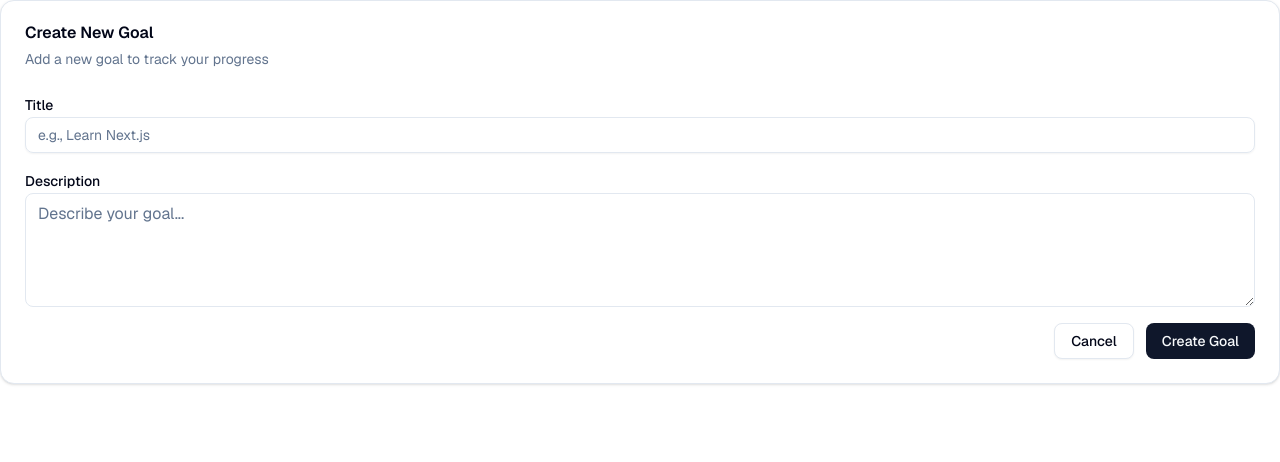
Scenario: GoalForm › Create Mode › displays error message on failure
Type "New Goal" into the field labelled "Title".
click(640, 135); type("New Goal")  # box [25,117,1255,153]
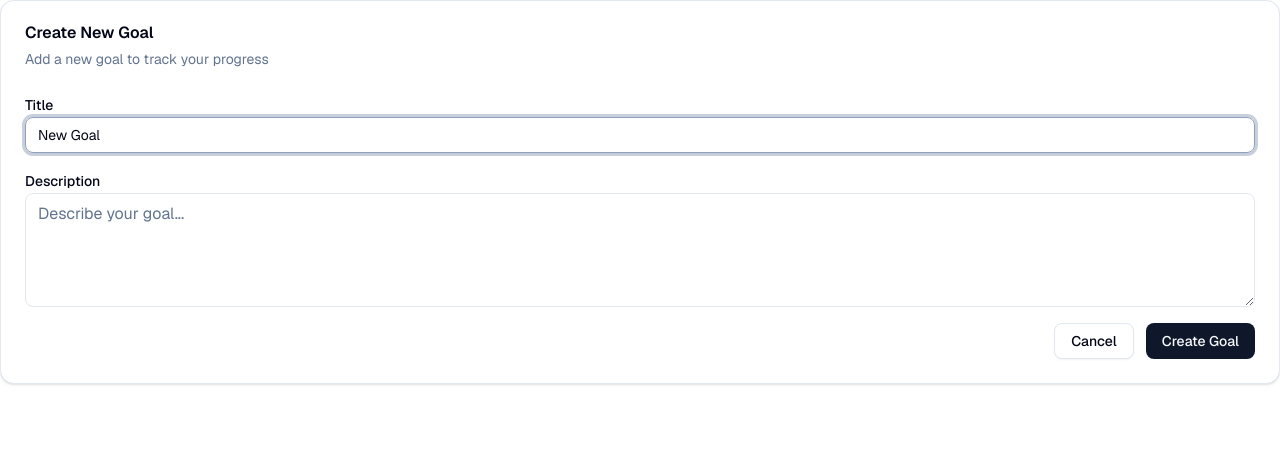
Type "New Description" into the text box labelled "Description".
click(640, 250); type("New Description")  # box [25,193,1255,307]
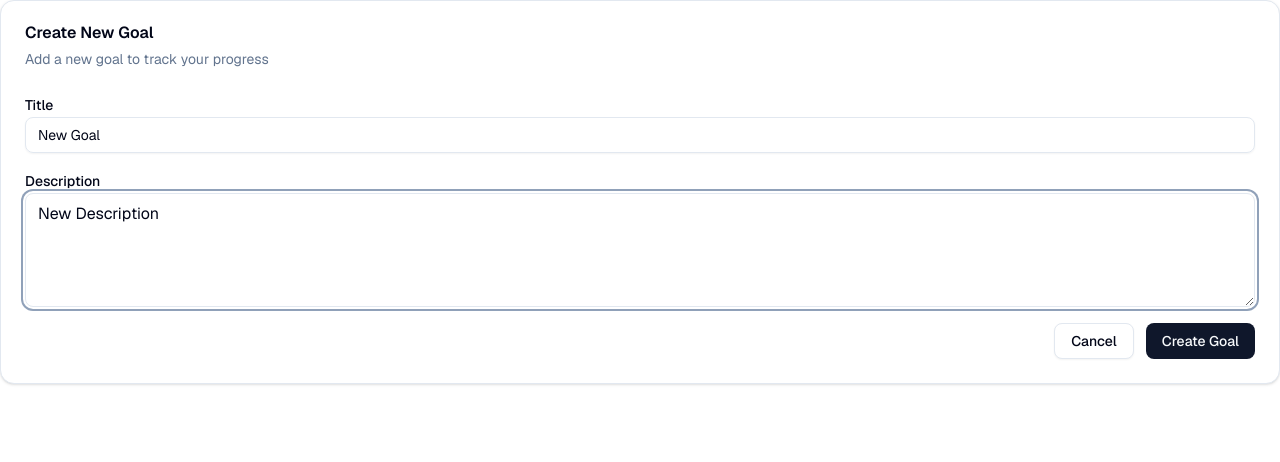
Click the button "Create Goal".
click(1200, 341)  # box [1146,323,1255,359]
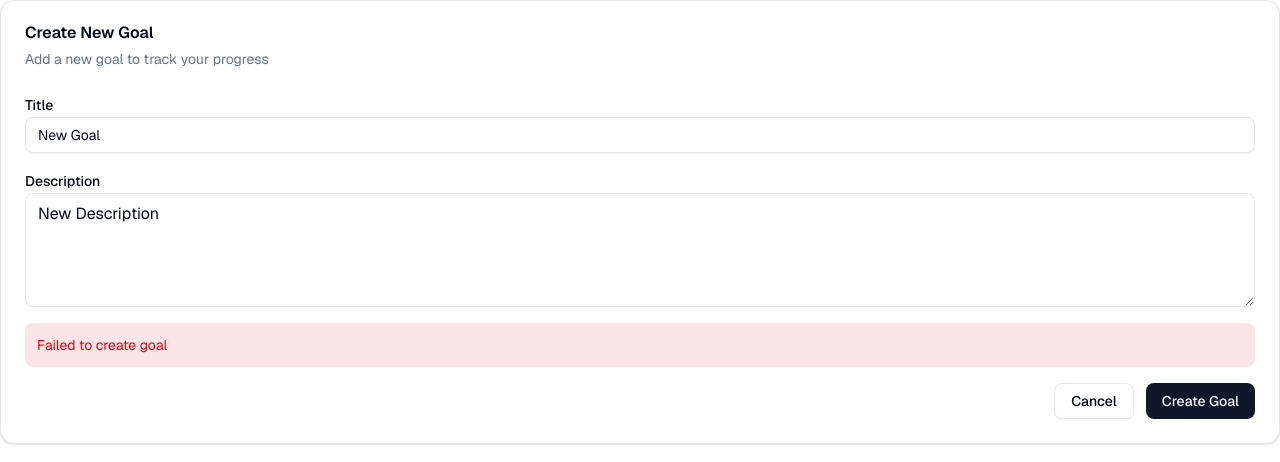
Now the text "Failed to create goal" is shown, box [25,323,1255,367]
